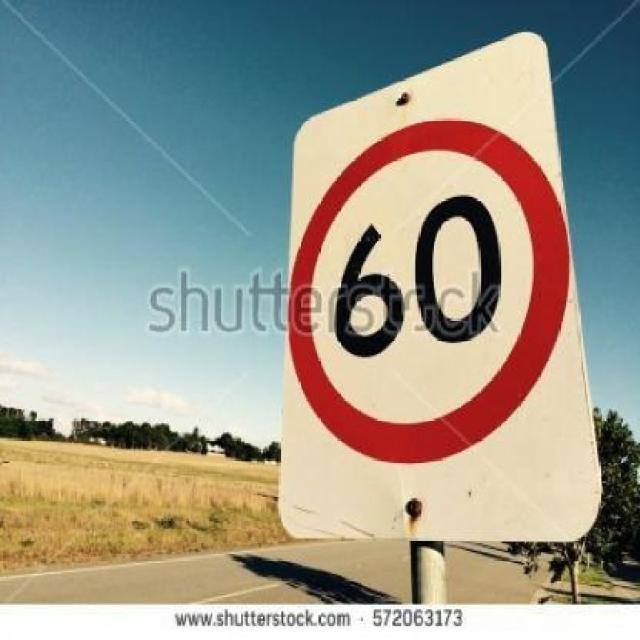forb_speed_over_60: (300, 135, 555, 443)
